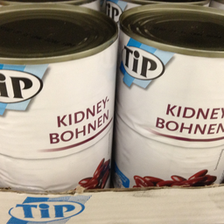beans: (1, 8, 117, 202), (119, 4, 224, 191)
